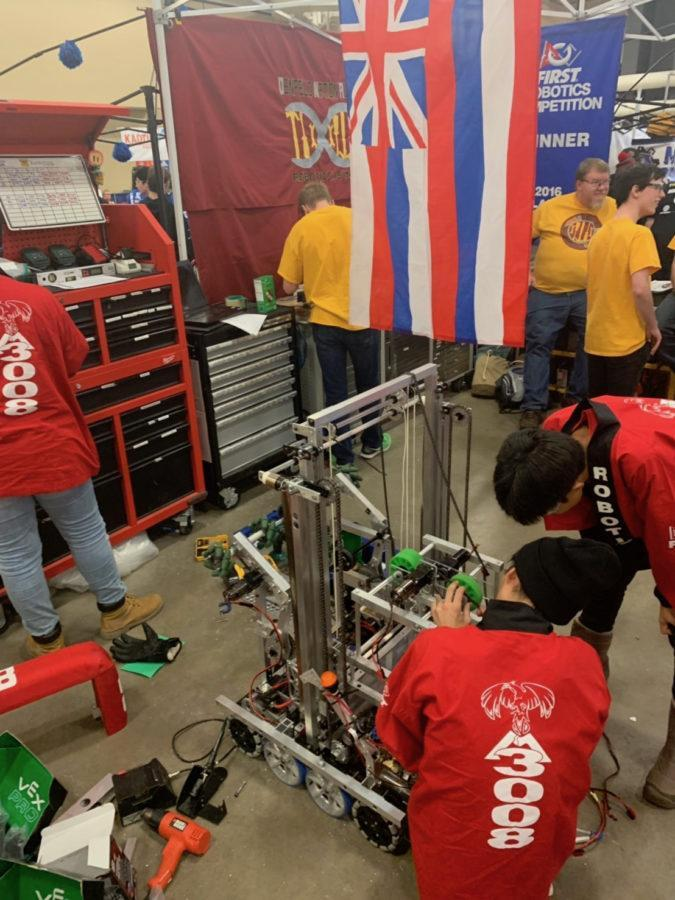robot: (213, 359, 569, 884)
